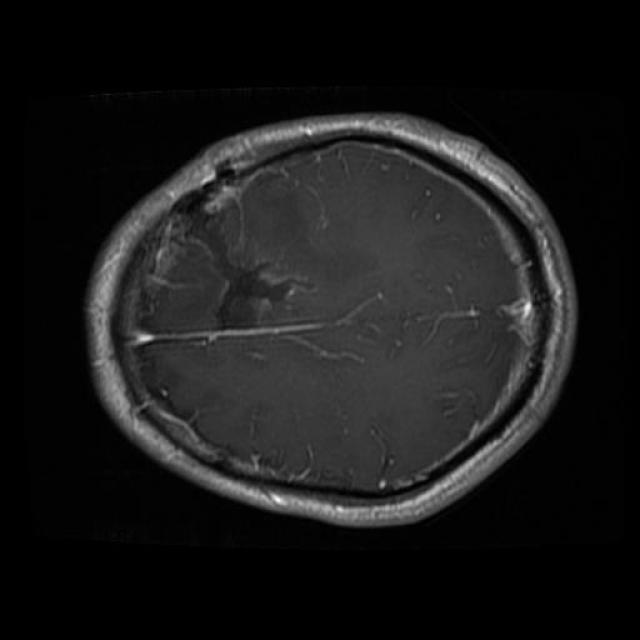Glioma: (175, 176, 308, 328)
